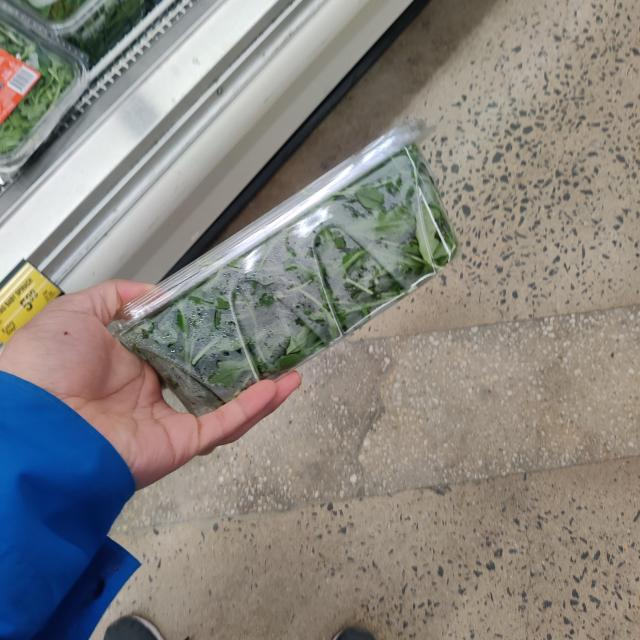Salad: (84, 126, 445, 413)
